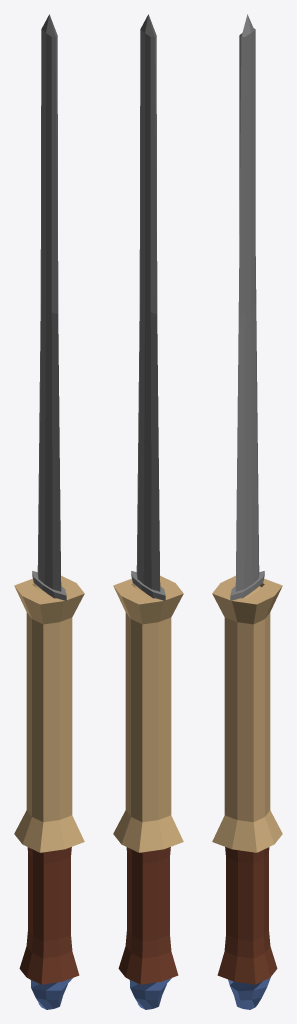
The model's file is Katana.fbx.
3 views of the same model, side by side, from view 1: azimuth 30°, elevation 25°; view 2: azimuth 210°, elevation 25°; view 3: azimuth 330°, elevation 25° (orthographic).
Parts seen in each view (by area): view 1: Katana; view 2: Katana; view 3: Katana.
Part boxes in pixels (x1,y1,x2,y2): Katana: [14, 14, 84, 1009]; Katana: [113, 14, 183, 1009]; Katana: [212, 14, 282, 1009].
Bounding box in the file's own units: 17.25 × 303 × 18.89.
